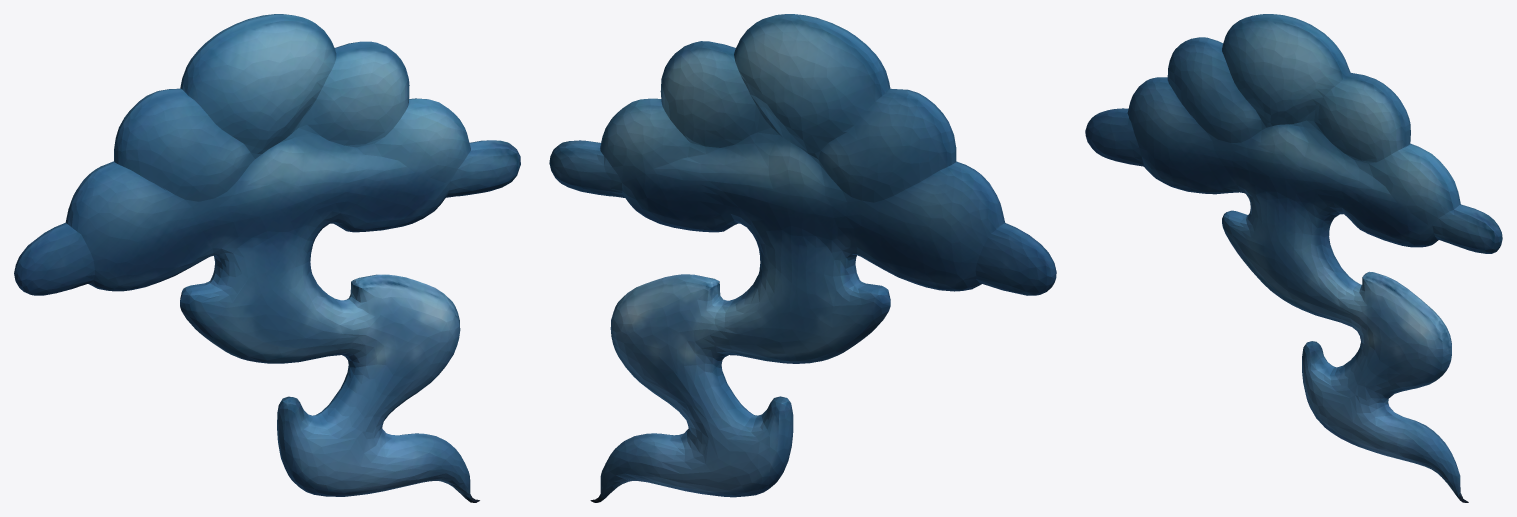
Rendered from stormy_cloud.glb.
3 views of the same model, side by side, from view 1: azimuth 30°, elevation 25°; view 2: azimuth 150°, elevation 25°; view 3: azimuth 330°, elevation 25° (orthographic). The views are drawn at different scales.
Visible parts, largest first — view 1: world.001; view 2: world.001; view 3: world.001.
Part boxes in pixels (x1,y1,x2,y2): world.001: (14, 14, 520, 502); world.001: (549, 14, 1056, 502); world.001: (1085, 14, 1502, 502).
Size of the model in its own units: 0.9855 by 1 by 0.1068.
1 material, 1 textured.
